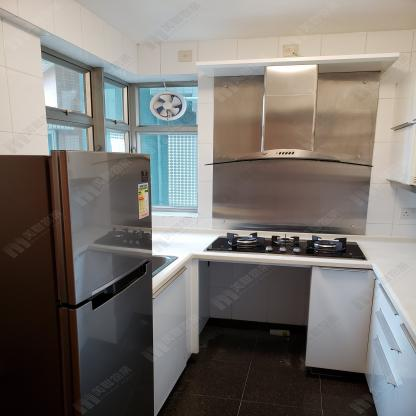Exhaust Fan: (139, 86, 198, 127)
Exhaust Hood: (198, 142, 382, 178)
Fridge: (0, 149, 154, 416)
Stove: (190, 230, 375, 265)
